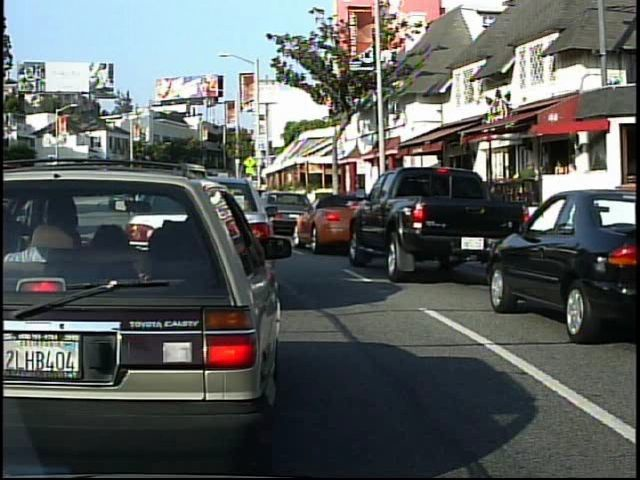person: (547, 151, 574, 217), (517, 154, 542, 220)
